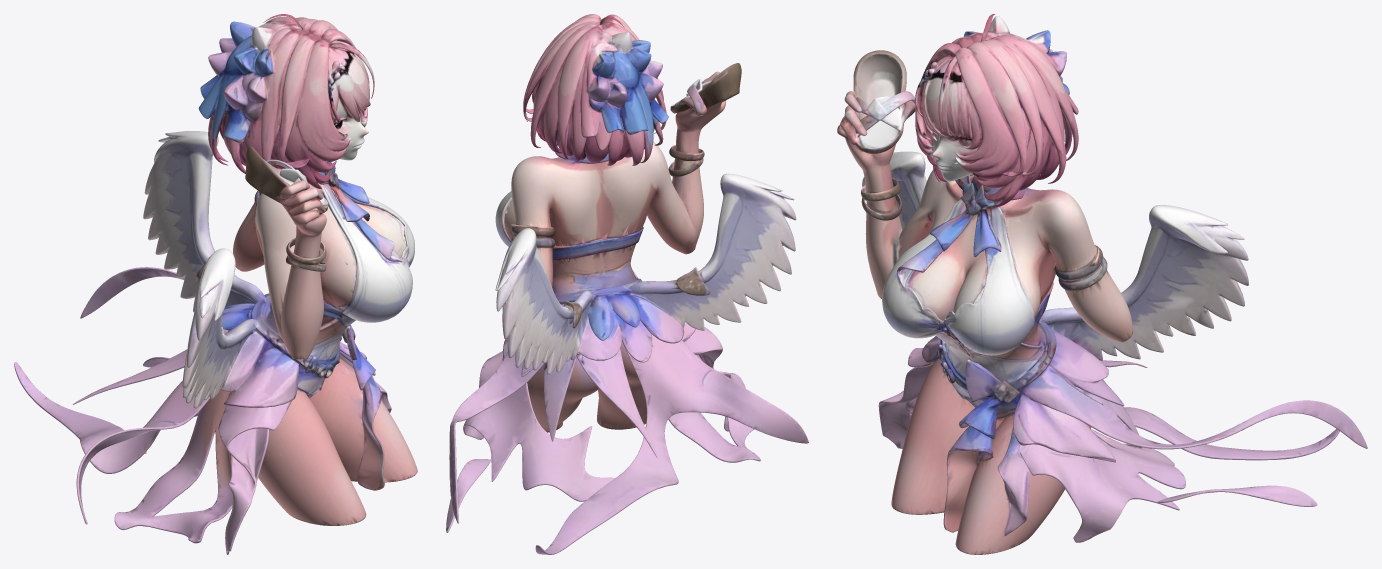
The model's file is qing.glb.
3 views of the same model, side by side, from view 1: azimuth 30°, elevation 25°; view 2: azimuth 150°, elevation 25°; view 3: azimuth 270°, elevation 25° (orthographic). The views are drawn at different scales.
Parts seen in each view (by area): view 1: node_0; view 2: node_0; view 3: node_0.
Boxes of the visible parts, left/top/right/bottom form: node_0: left=14, top=14, right=417, bottom=554; node_0: left=446, top=14, right=808, bottom=554; node_0: left=837, top=14, right=1367, bottom=554.
Bounding box in the file's own units: 0.6693 × 0.9076 × 0.9088.
Materials: 1 (1 with a texture image).
